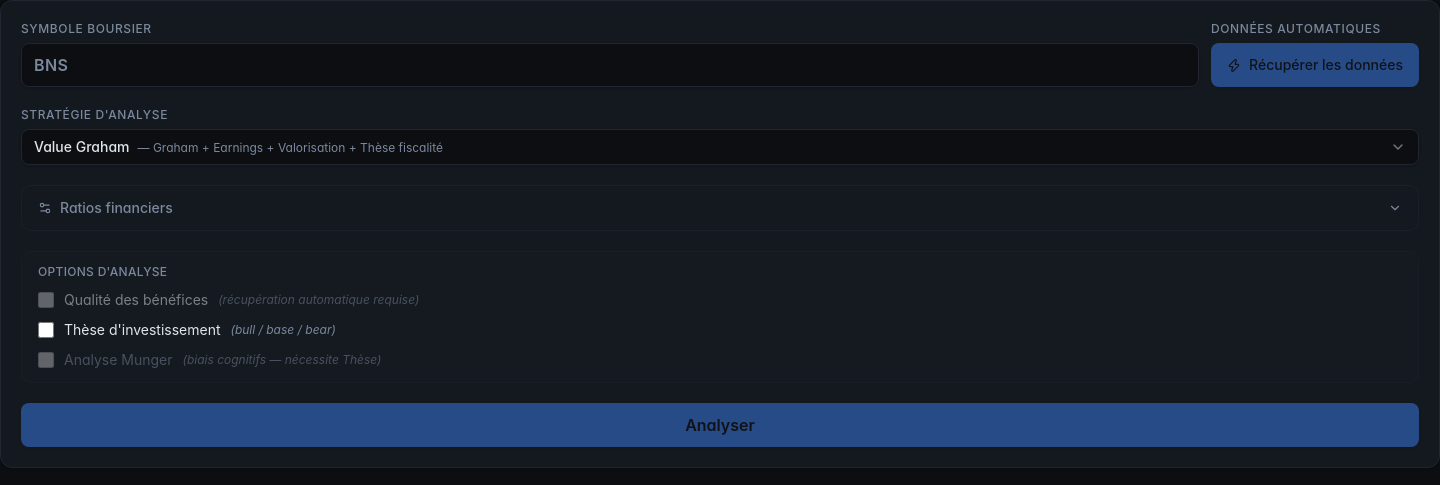
AnalyzeForm › Munger devient actif quand Thèse est cochée
Click the checkbox labelled "Thèse d'investissement (bull / base / bear)".
click(46, 330)  # box top-left (38, 322), bottom-right (54, 338)
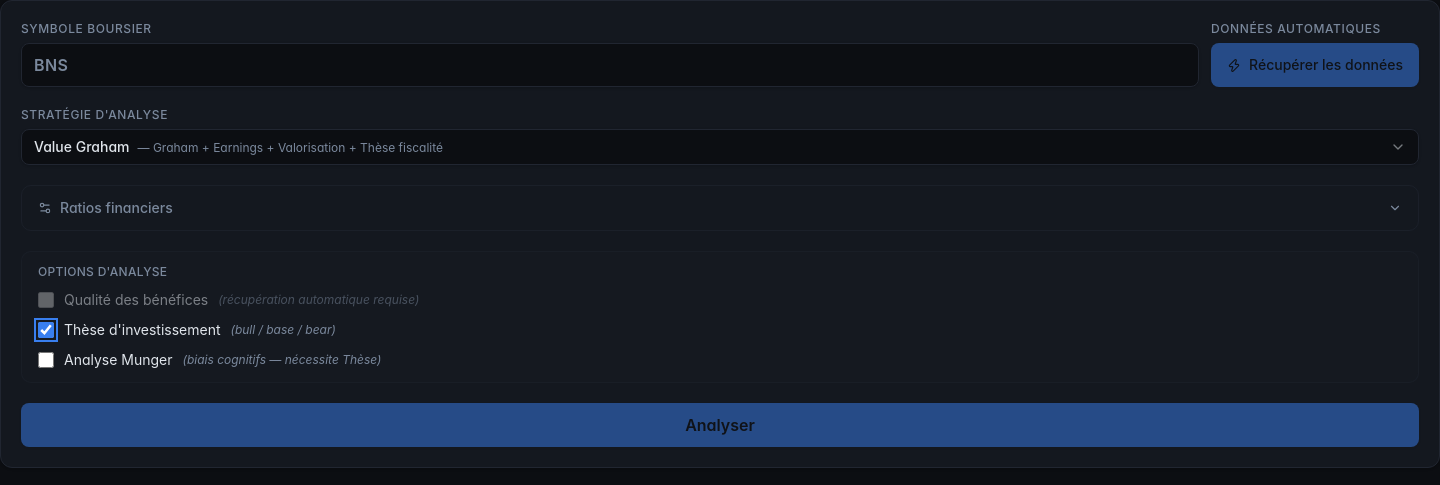
Expected: the checkbox labelled "Analyse Munger (biais cognitifs — nécessite Thèse)" is enabled, top-left (38, 352), bottom-right (54, 368)
